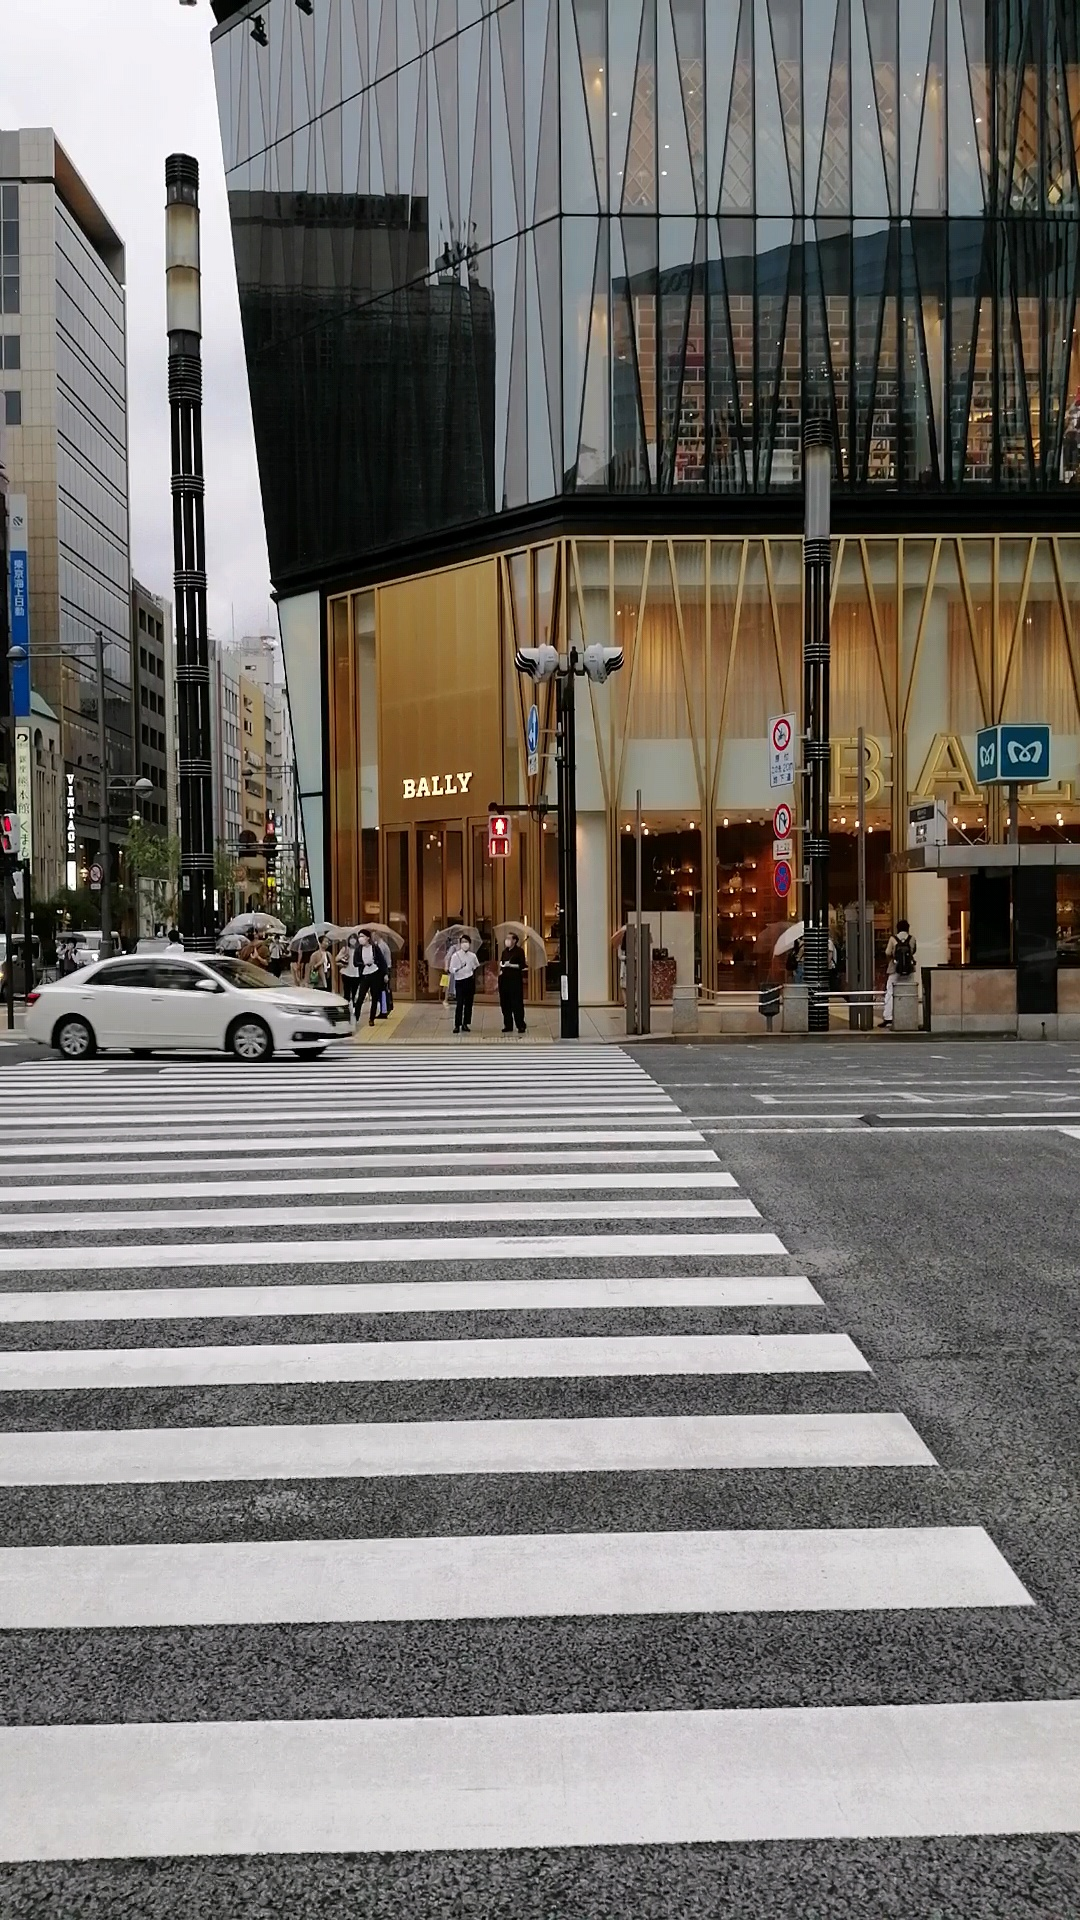red: (487, 814, 510, 858)
